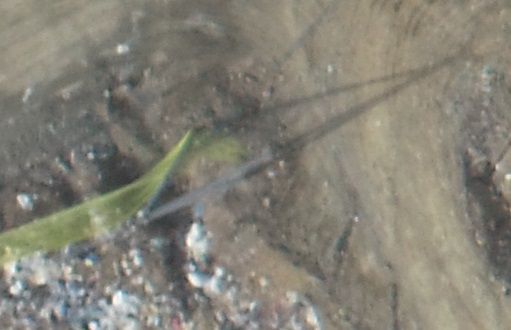opora: (131, 119, 298, 231)
